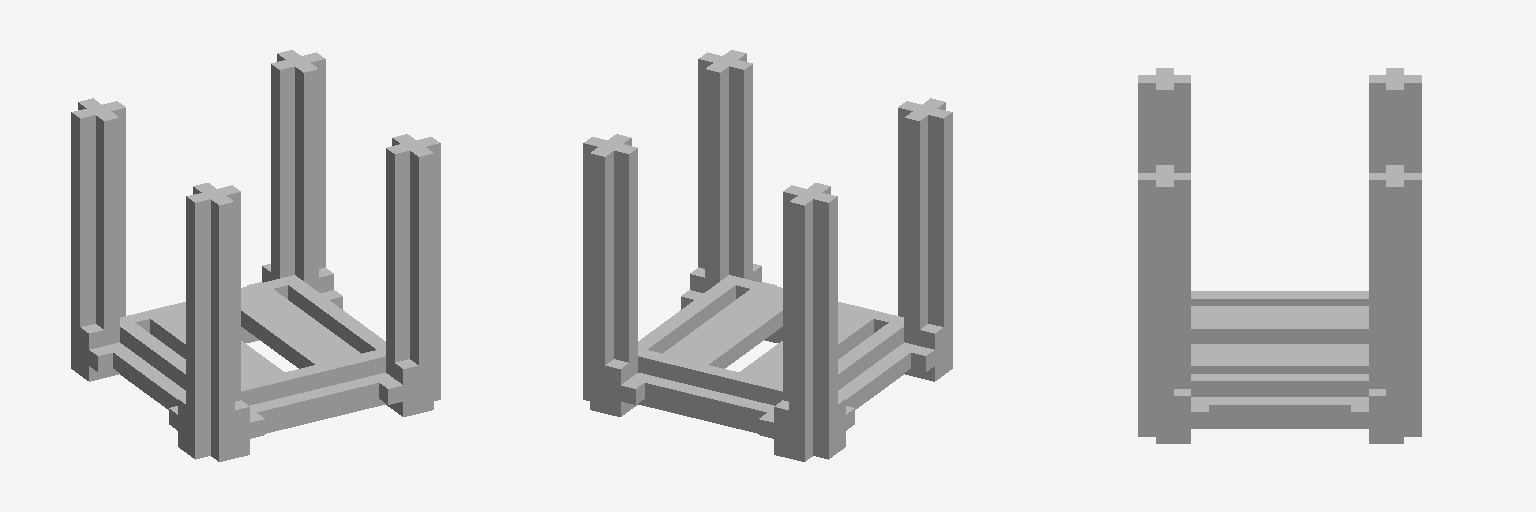
Rendered from pole_scaffolding_cross_floor.obj.
The picture shows the model from 3 angles: view 1: azimuth 30°, elevation 25°; view 2: azimuth 150°, elevation 25°; view 3: azimuth 270°, elevation 25°; orthographic projection.
Visible parts, largest first — view 1: node_0_0_0.002; view 2: node_0_0_0.002; view 3: node_0_0_0.002.
Boxes of the visible parts, x1,y1,x2,y2 form: node_0_0_0.002: [71, 50, 440, 461]; node_0_0_0.002: [583, 50, 952, 461]; node_0_0_0.002: [1138, 68, 1421, 443].
Bounding box in the file's own units: 1 × 1 × 1.